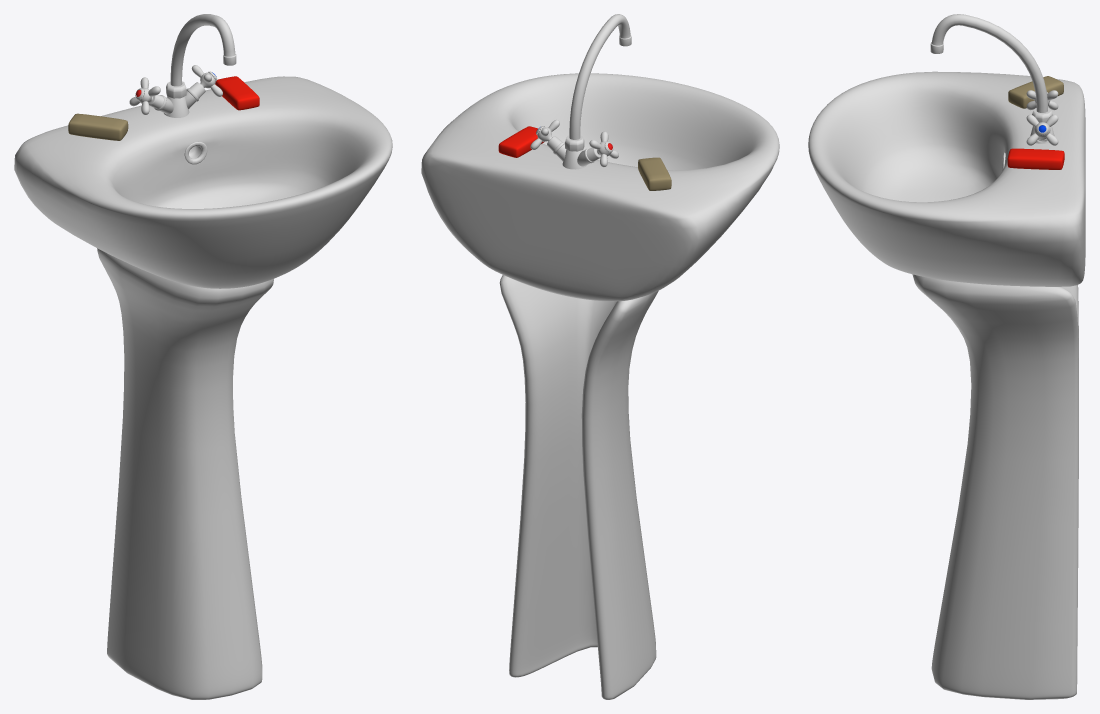
The model's file is washbasin.fbx.
The picture shows the model from 3 angles, left to right: view 1: azimuth 30°, elevation 25°; view 2: azimuth 150°, elevation 25°; view 3: azimuth 270°, elevation 25°; orthographic projection. The views are drawn at different scales.
Parts seen in each view (by area): view 1: washbasin, soap, soap1; view 2: washbasin, soap, soap1; view 3: washbasin, soap1, soap.
Part boxes in pixels (<box>): washbasin: <box>14,14,392,699</box>; soap: <box>68,113,128,140</box>; soap1: <box>215,76,259,110</box>; washbasin: <box>421,14,779,699</box>; soap: <box>638,157,671,190</box>; soap1: <box>498,126,544,157</box>; washbasin: <box>808,14,1085,699</box>; soap1: <box>1007,148,1064,169</box>; soap: <box>1008,76,1063,108</box>.
Bounding box in the file's own units: 258 × 537 × 204.
